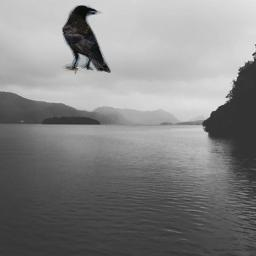Crow: (62, 5, 111, 74)
